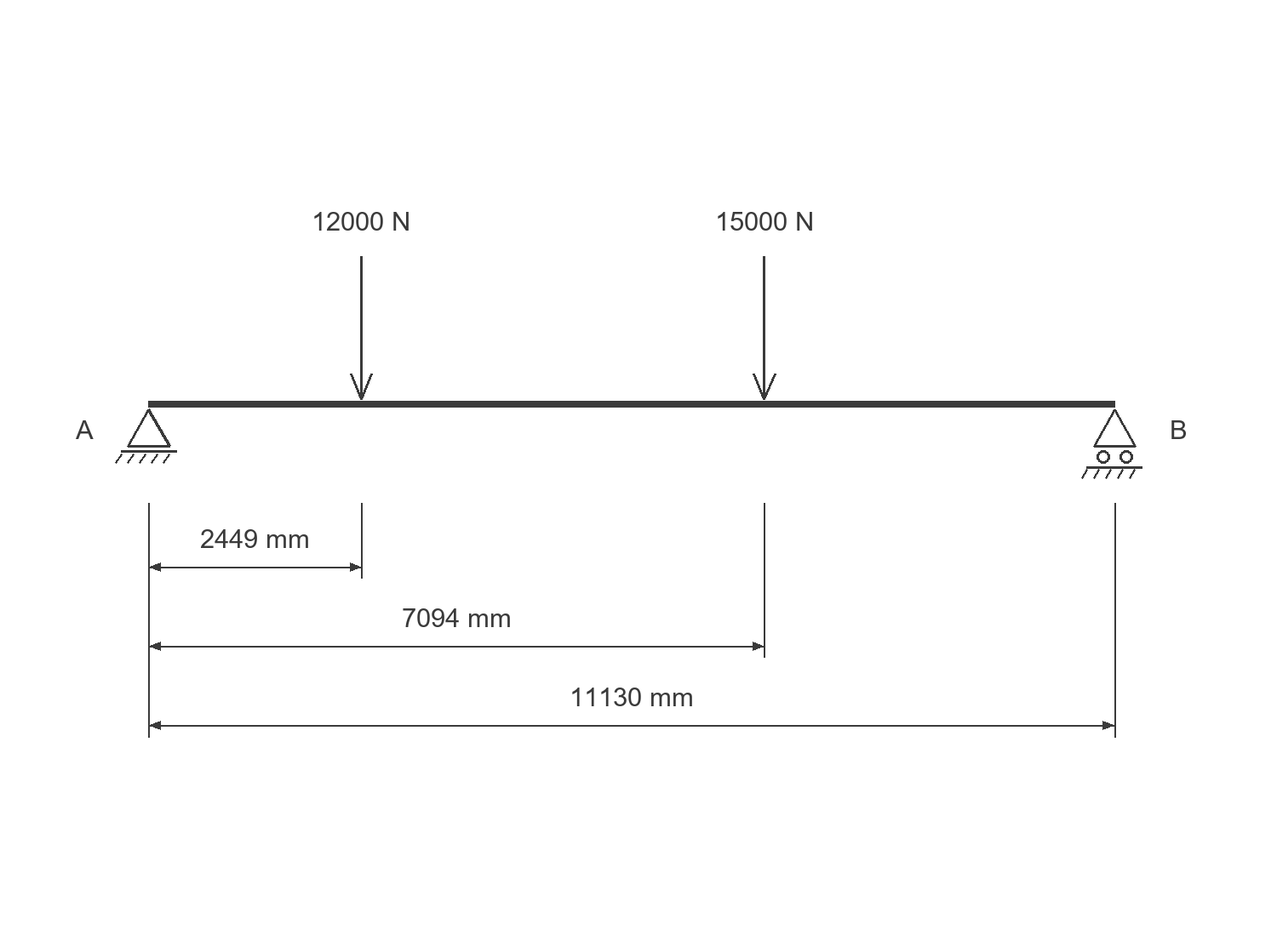pin_support: (115, 408, 177, 464)
point_load: (350, 256, 373, 400), (753, 256, 776, 400)
roller_support: (1081, 409, 1142, 479)
